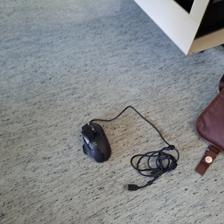mouse: (79, 121, 111, 163)
